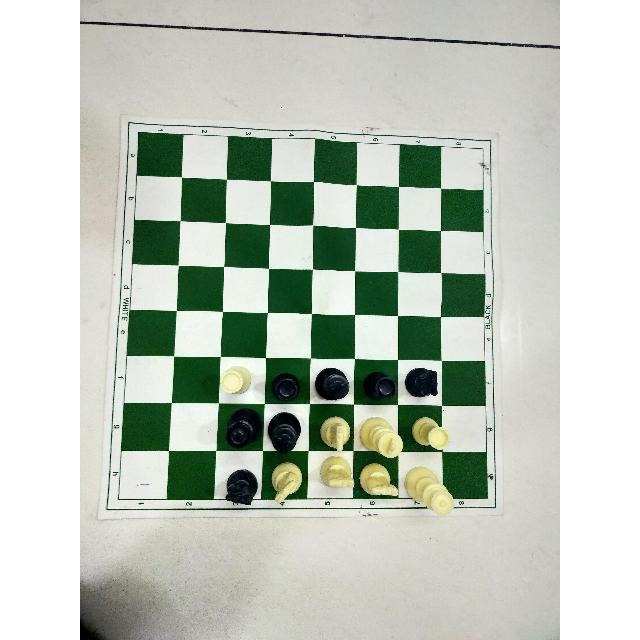black-king: (268, 412, 299, 453), (316, 365, 350, 401)
black-knight: (222, 470, 257, 506), (405, 364, 439, 401)
black-queen: (224, 407, 260, 451)
black-rook: (364, 370, 396, 403), (270, 372, 300, 403)
white-king: (360, 418, 405, 460)
white-knight: (269, 460, 303, 501), (361, 460, 395, 500), (318, 457, 355, 493), (319, 418, 351, 453)
white-queen: (404, 466, 456, 518)
white-rook: (413, 414, 447, 454), (220, 365, 250, 398)
